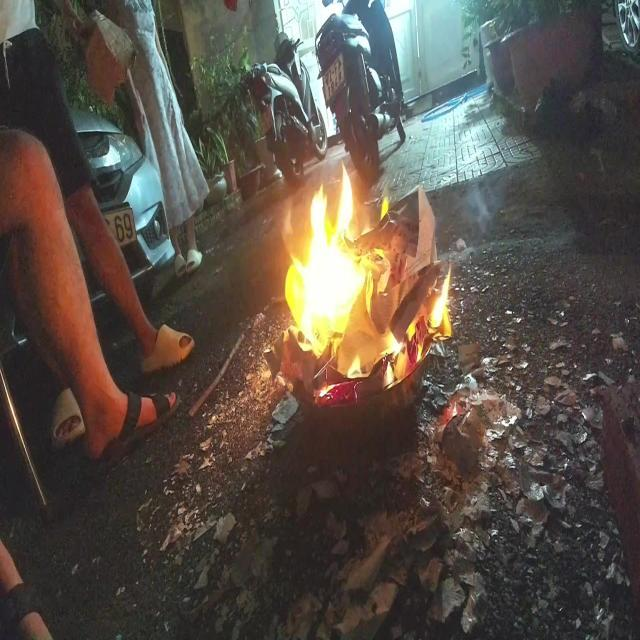Fire: (283, 160, 452, 402)
